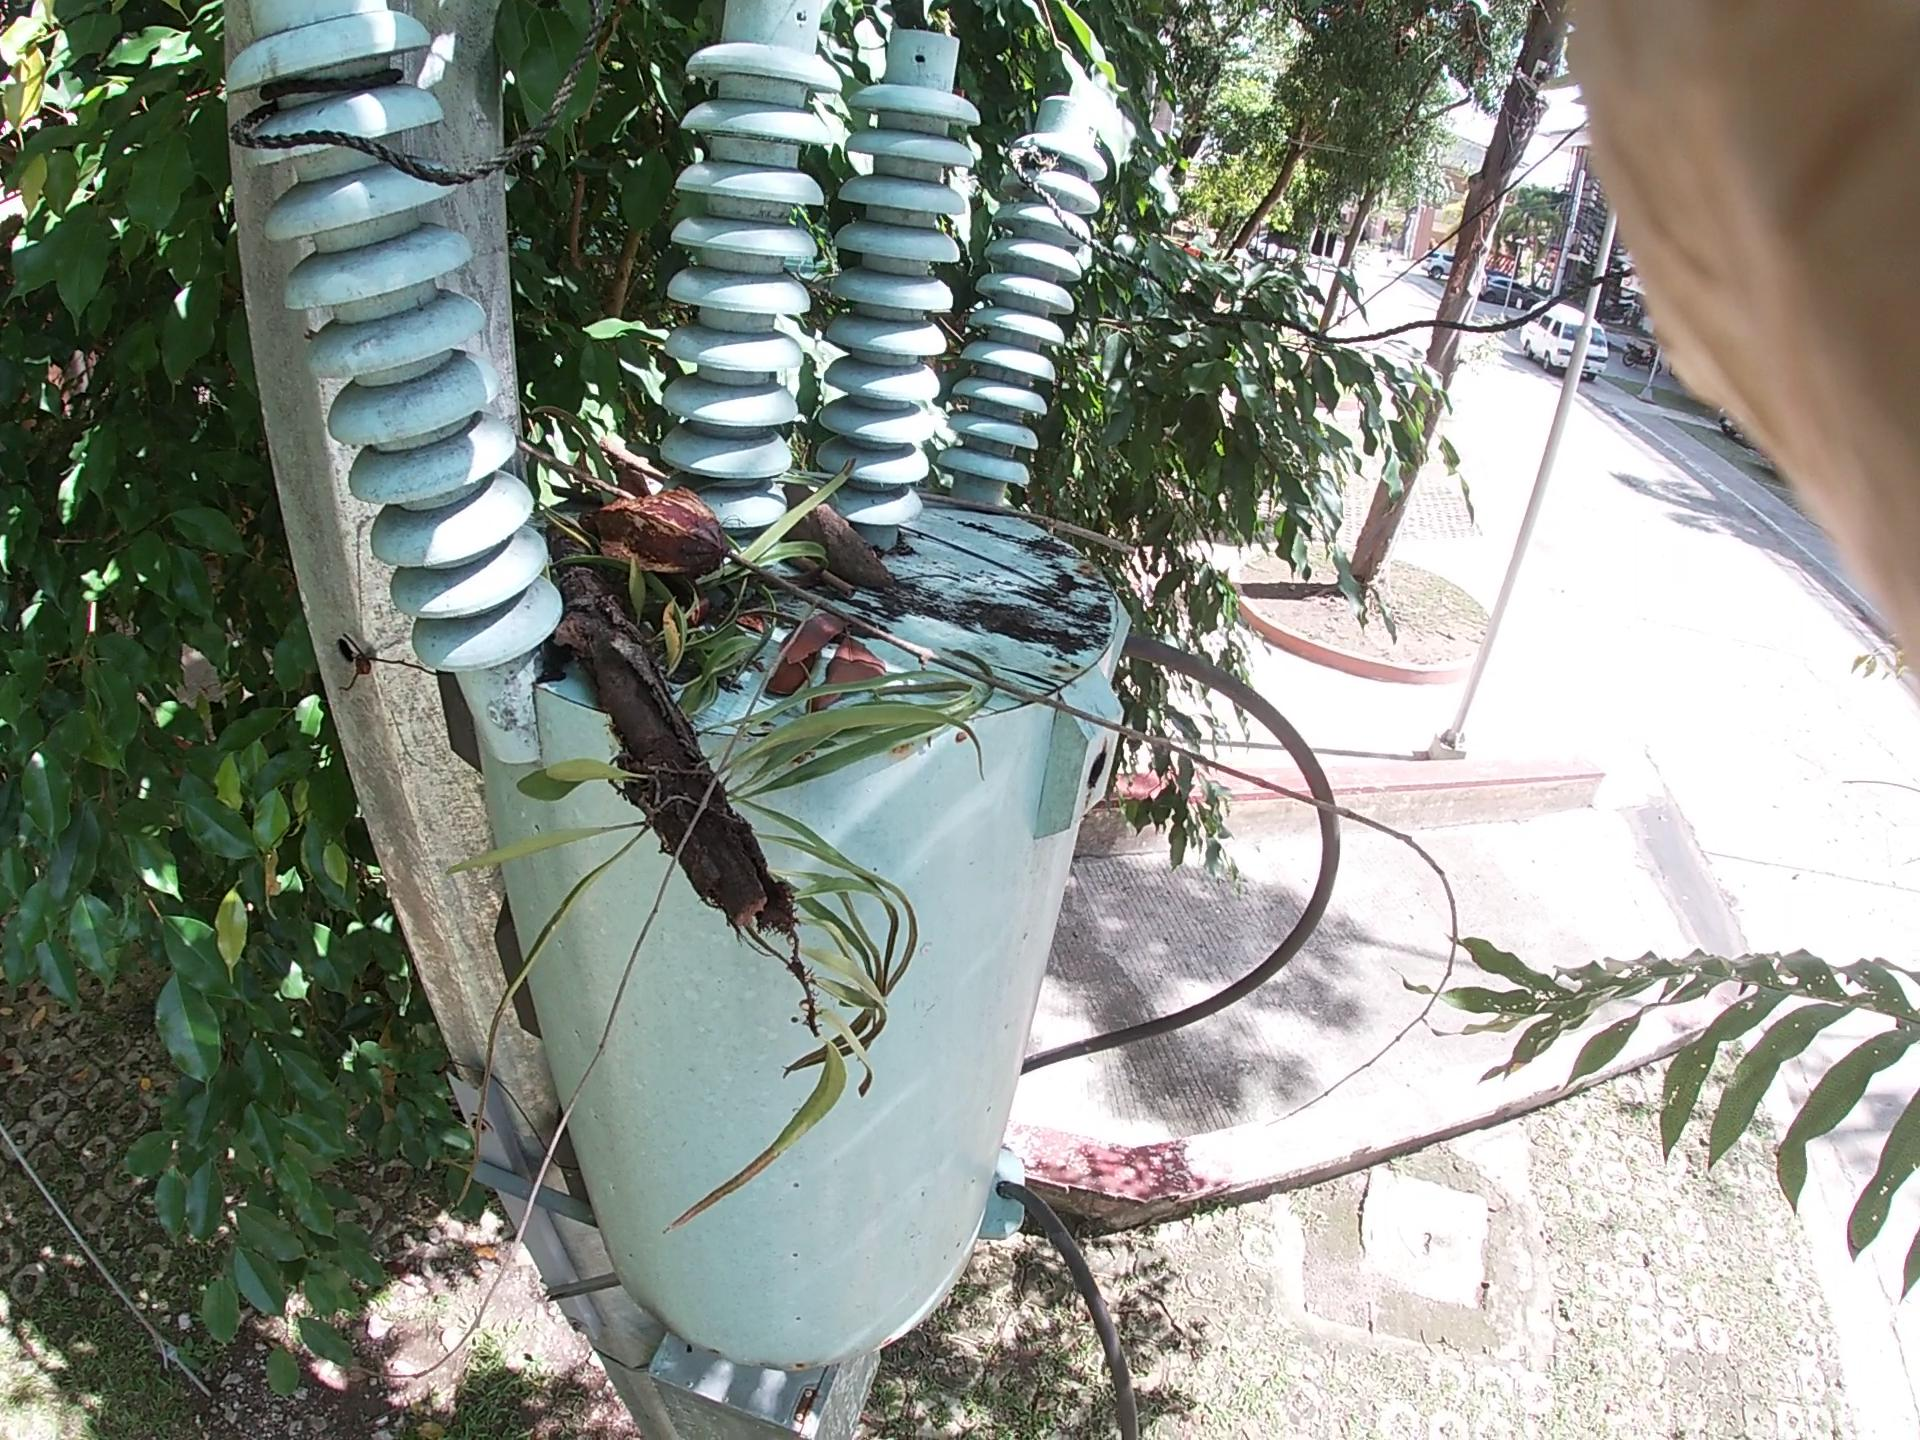branch with leaves: (451, 502, 881, 917)
leaf: (451, 15, 1723, 570)
mahogany fruit: (603, 470, 748, 602), (788, 473, 900, 607)
tree branch: (540, 442, 1485, 971), (897, 470, 1178, 554), (745, 517, 869, 635)
